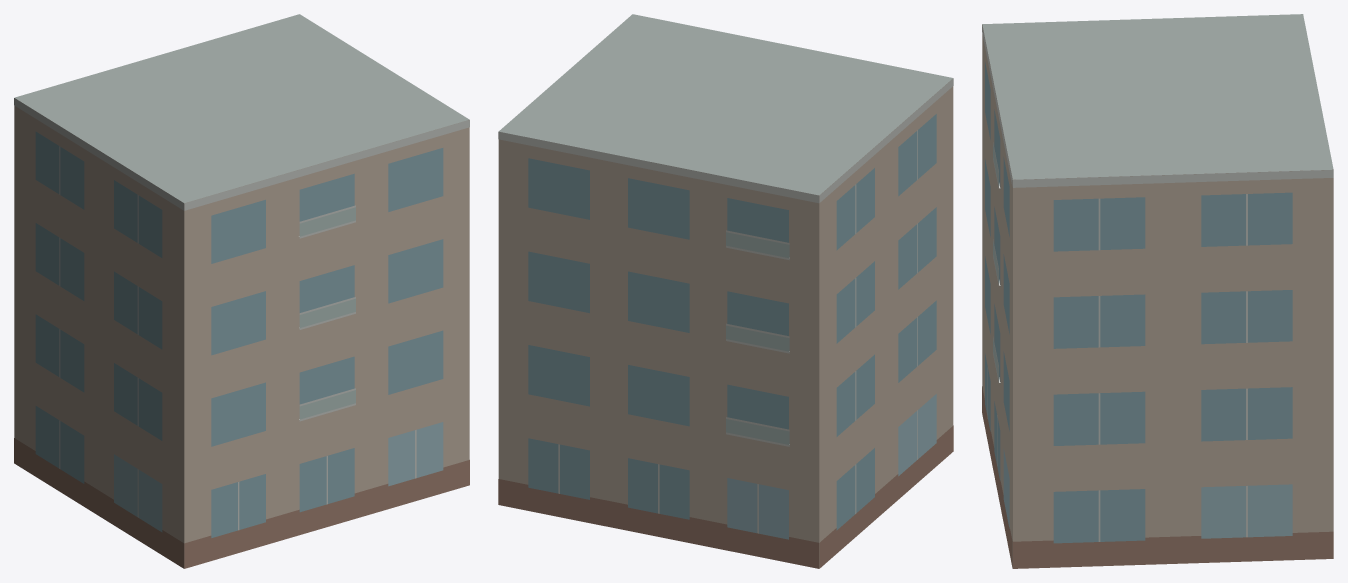
The model's file is survey-upis-32696744.glb.
3 renders of one model, left to right at view 1: azimuth 30°, elevation 25°; view 2: azimuth 150°, elevation 25°; view 3: azimuth 270°, elevation 25°, orthographic. The views are drawn at different scales.
Visible parts, largest first — view 1: survey-upis-32696744.tmp; view 2: survey-upis-32696744.tmp; view 3: survey-upis-32696744.tmp.
Boxes of the visible parts, x1,y1,x2,y2 form: survey-upis-32696744.tmp: (14,14,469,568); survey-upis-32696744.tmp: (498,14,953,568); survey-upis-32696744.tmp: (982,14,1333,568).
Size of the model in its own units: 10.7 by 11.7 by 9.59.
